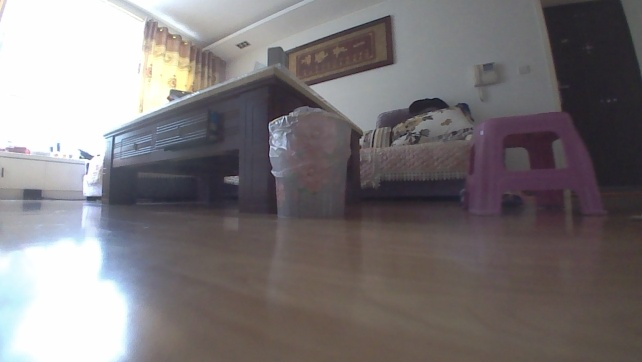door_anno: (530, 0, 641, 196)
sofa1: (357, 97, 483, 205)
tea_table: (100, 60, 364, 216)
